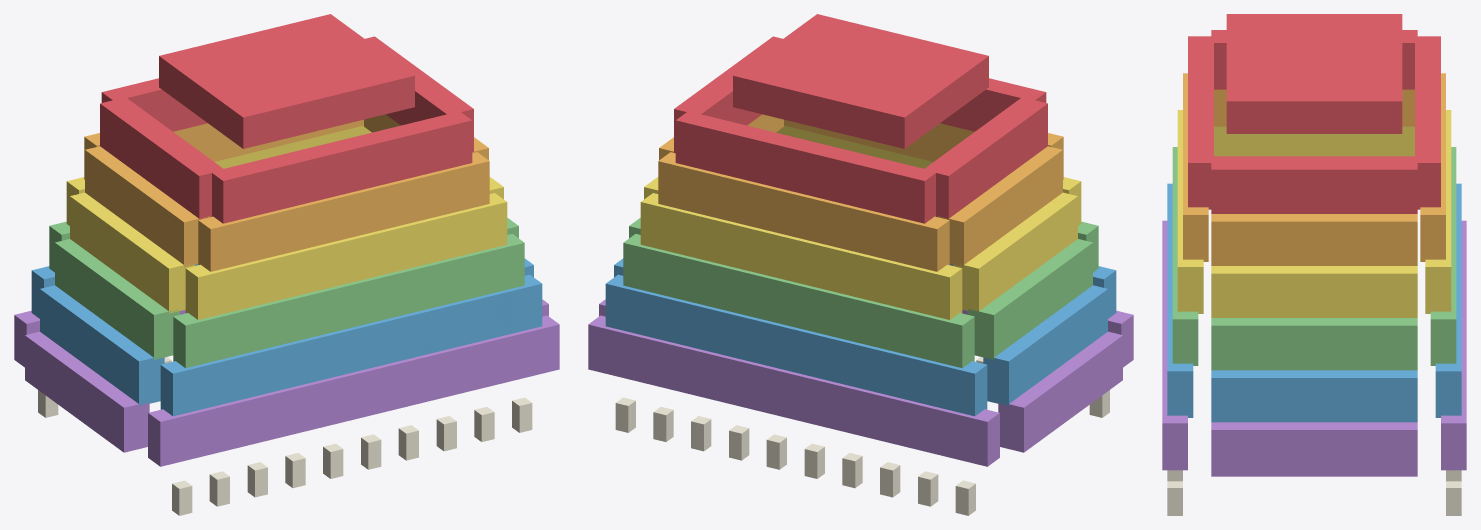
The model's file is poncho_arco_iris.glb.
The picture shows the model from 3 angles, left to right: view 1: azimuth 30°, elevation 25°; view 2: azimuth 150°, elevation 25°; view 3: azimuth 270°, elevation 25°; orthographic projection. The views are drawn at different scales.
Visible parts, largest first — view 1: poncho_arco_iris; view 2: poncho_arco_iris; view 3: poncho_arco_iris.
Boxes of the visible parts, x1,y1,x2,y2 form: poncho_arco_iris: [14, 14, 559, 515]; poncho_arco_iris: [588, 14, 1133, 515]; poncho_arco_iris: [1162, 14, 1466, 515].
Size of the model in its own units: 0.99 by 0.79 by 0.59.
